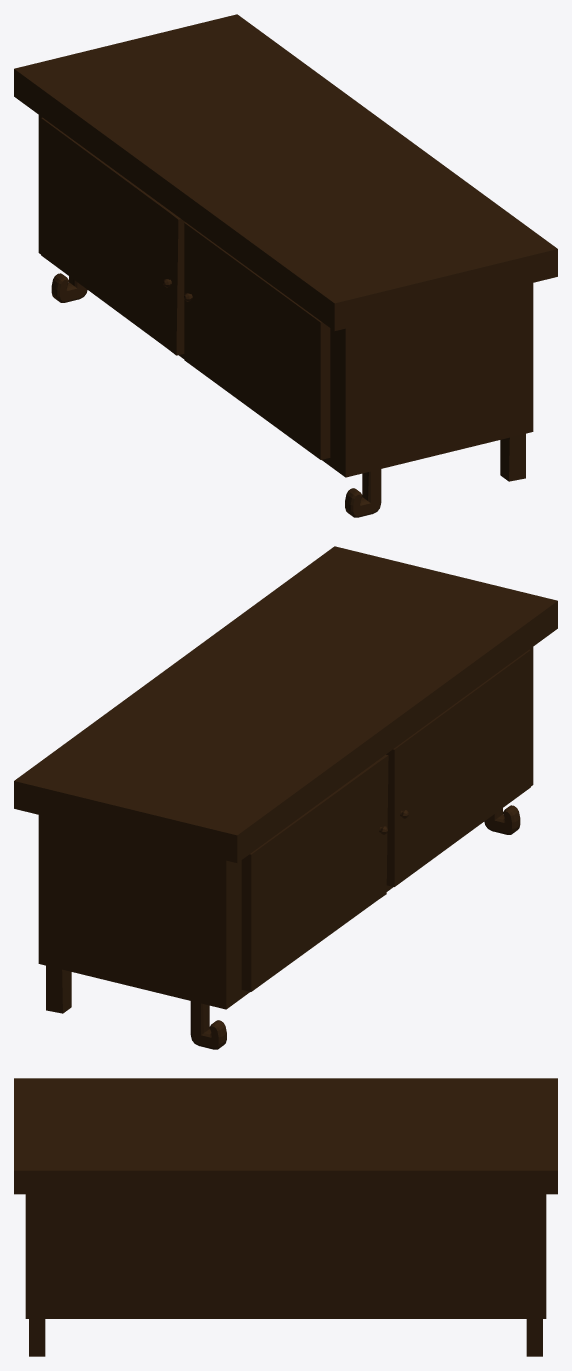
File: Small drawer.glb
3 renders of one model, top to bottom at view 1: azimuth 30°, elevation 25°; view 2: azimuth 150°, elevation 25°; view 3: azimuth 270°, elevation 25°, orthographic. The views are drawn at different scales.
Parts seen in each view (by area): view 1: Drawrs1; view 2: Drawrs1; view 3: Drawrs1.
Part boxes in pixels (left/top/right/bottom): Drawrs1: left=14, top=14, right=557, bottom=517; Drawrs1: left=14, top=546, right=557, bottom=1049; Drawrs1: left=14, top=1078, right=557, bottom=1356.
Size of the model in its own units: 10.21 by 10.05 by 25.35.
